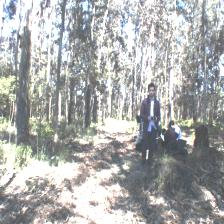trunktrack_idkeyframe: (14, 52, 30, 143), (53, 61, 61, 142), (203, 77, 206, 125)
